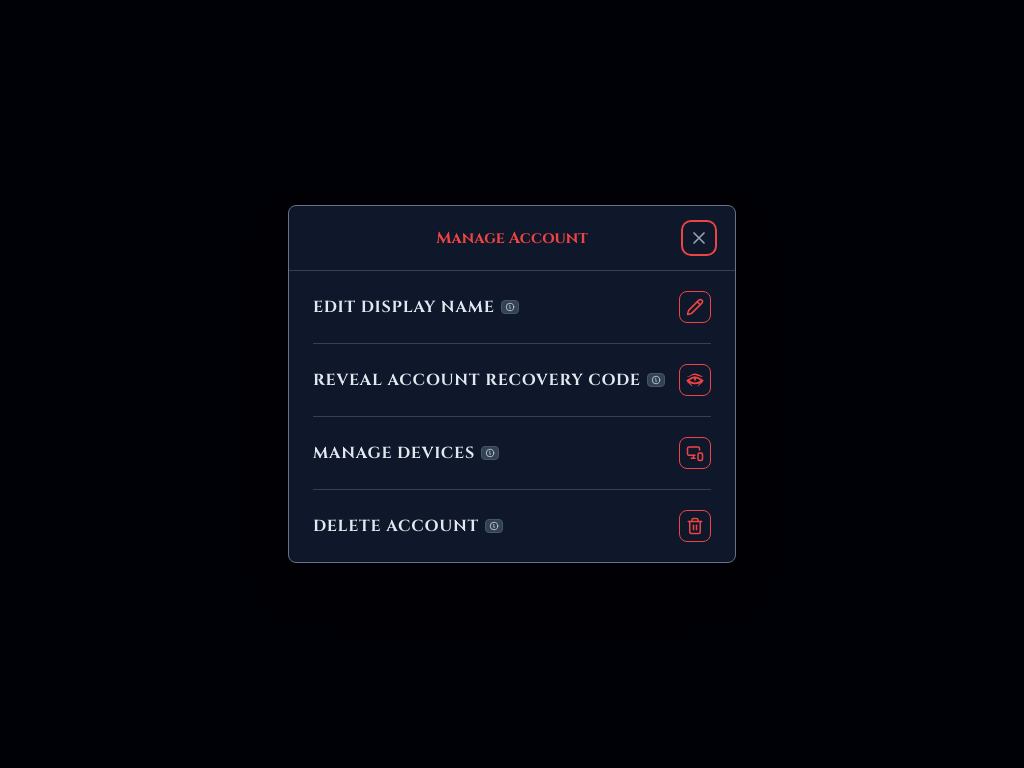
Test: Settings recovery code › reveals an existing code without generating a new one
This screenshot has width=1024, height=768.
Click the button named "Reveal Account Recovery Code" at x=695, y=380, box [679,364,711,396]
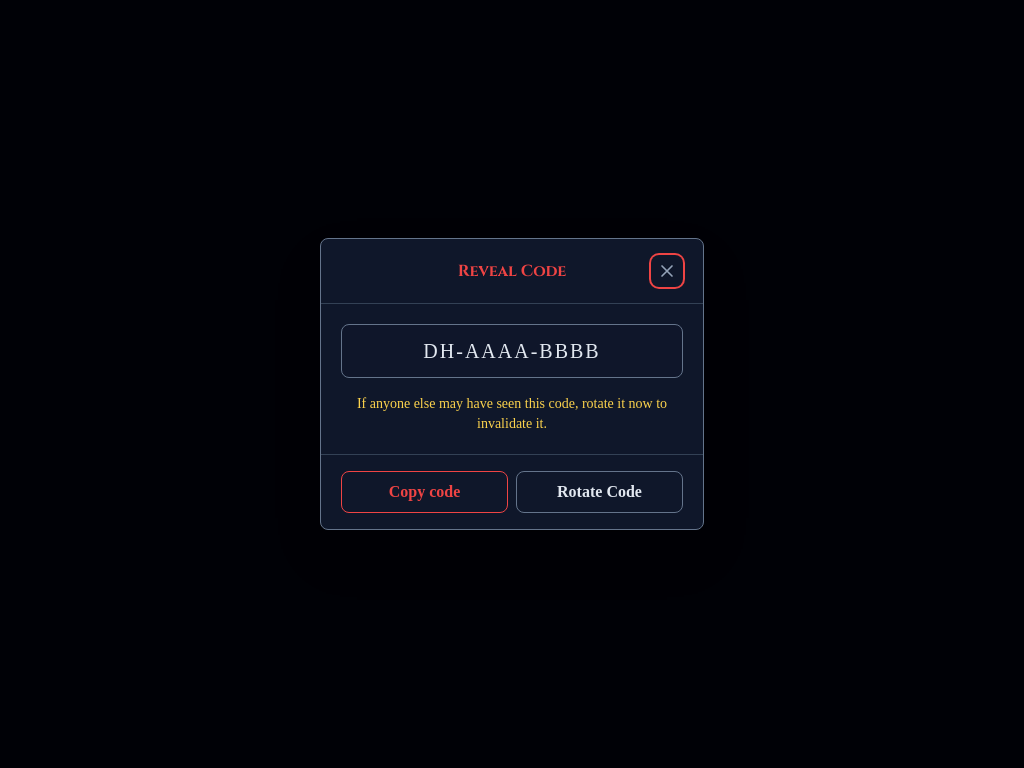
Expected: the text "DH-AAAA-BBBB" is shown, [423,340,601,362]
